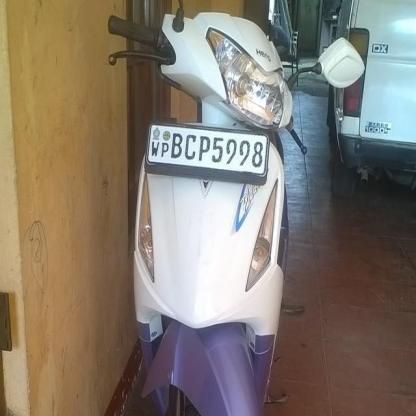bike front: (91, 0, 362, 415)
number plate: (148, 131, 265, 171)
